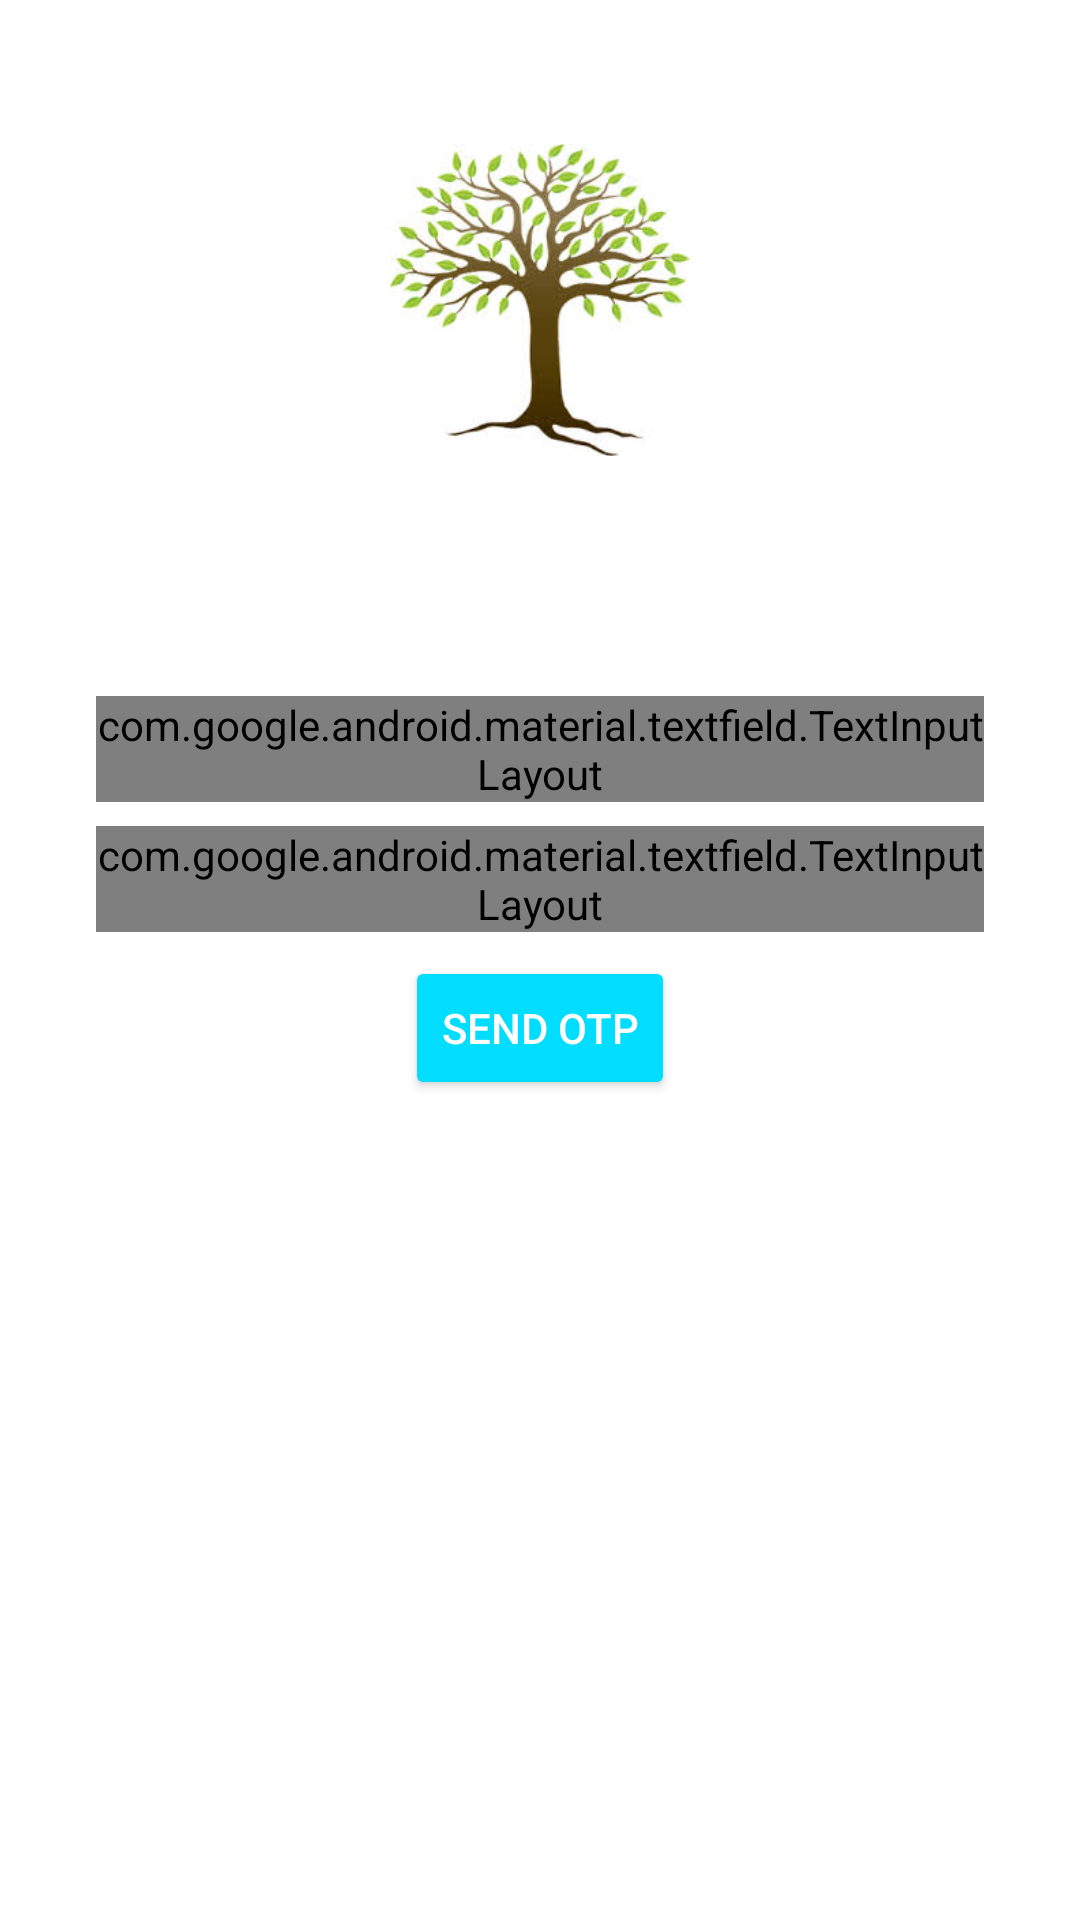

Icons on this 1080px×1920px Android screen, each with its box as (x1,y1,x2,y2):
tree: (390,144,690,456)
